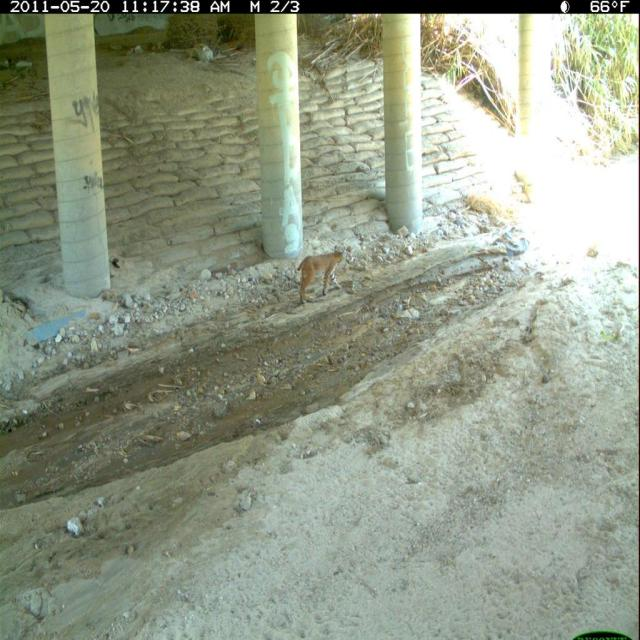bobcat: (295, 241, 349, 310)
